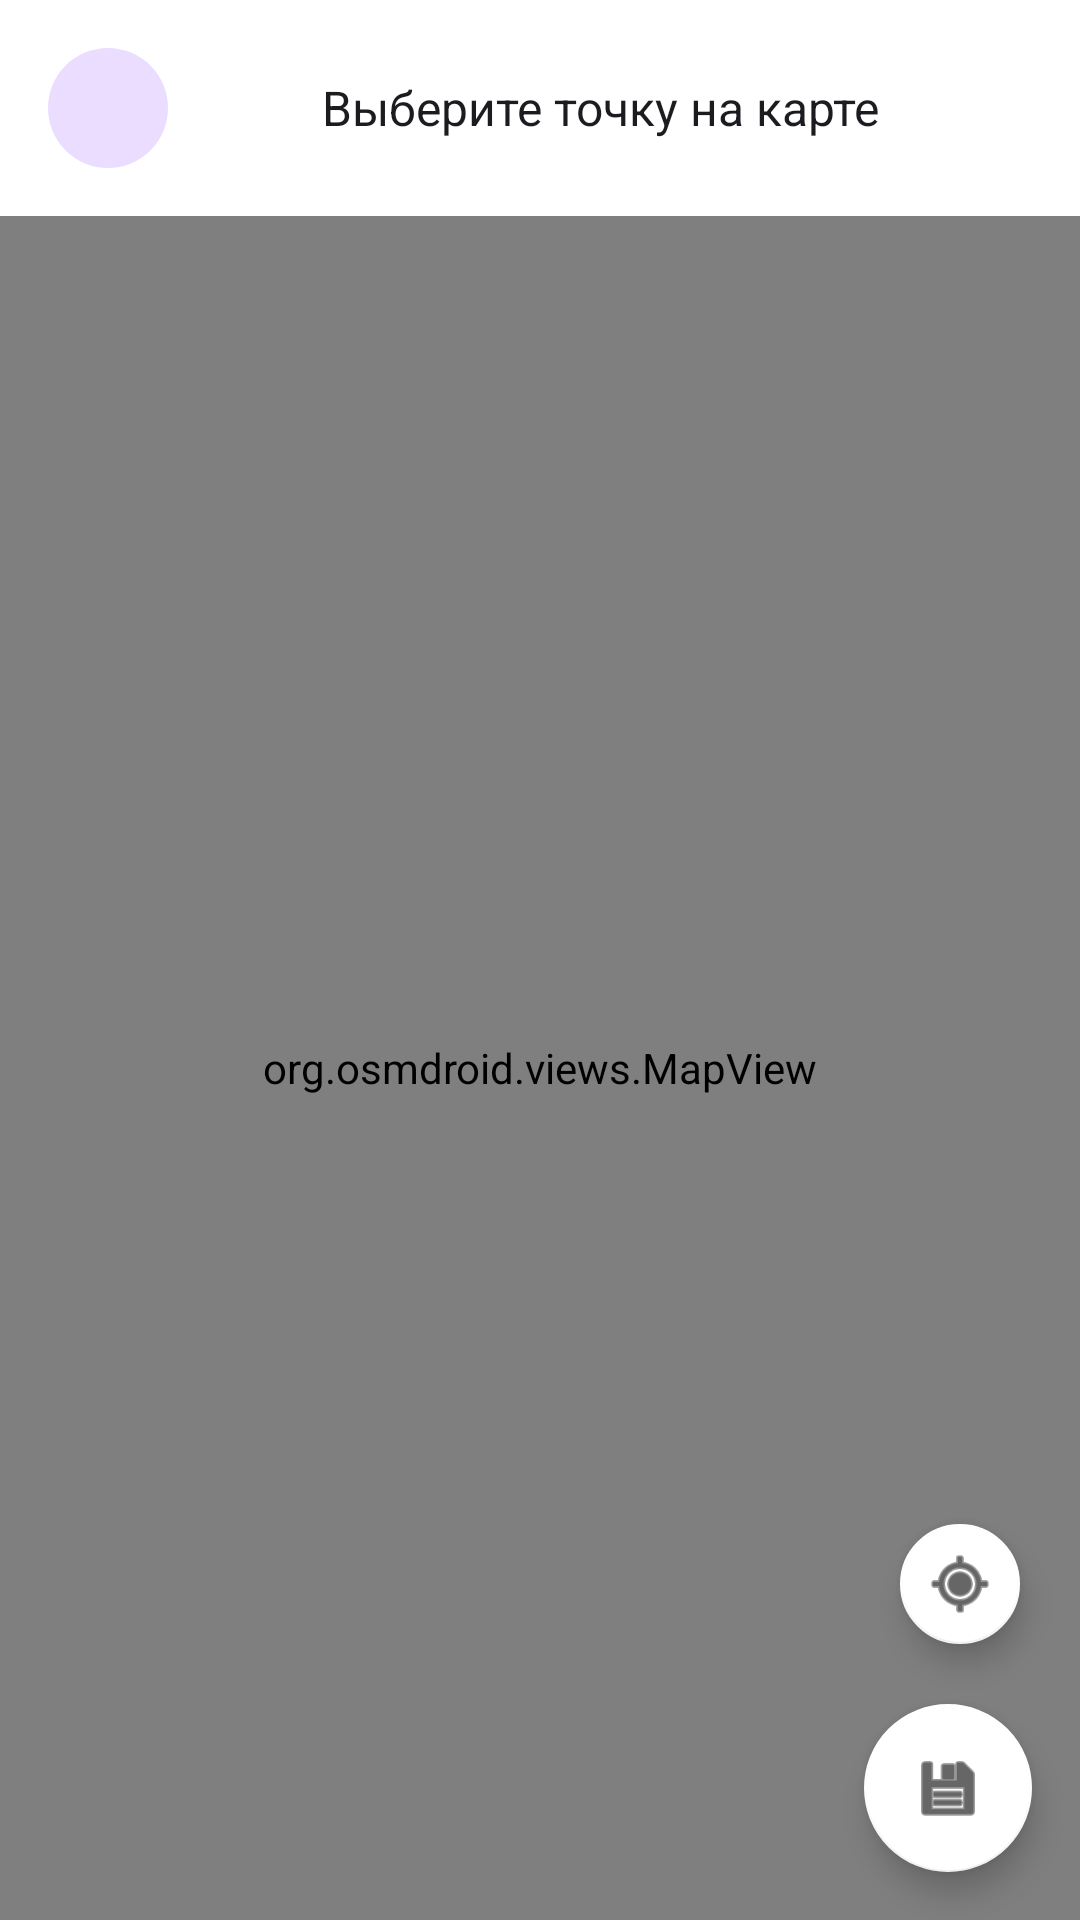

Where icons sit on this 1080*1920 app screen, as (x1, y1, x2, y2):
mylocation: (900, 1524, 1020, 1644)
save: (864, 1704, 1032, 1872)
